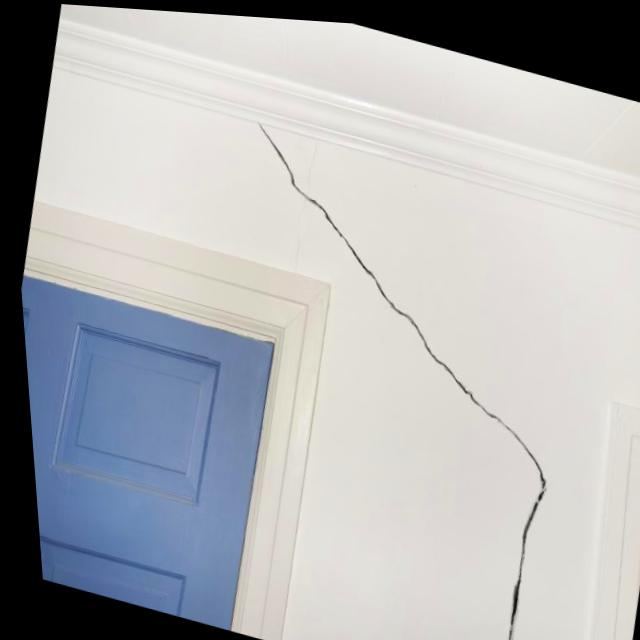Crack: (148, 111, 609, 640)
